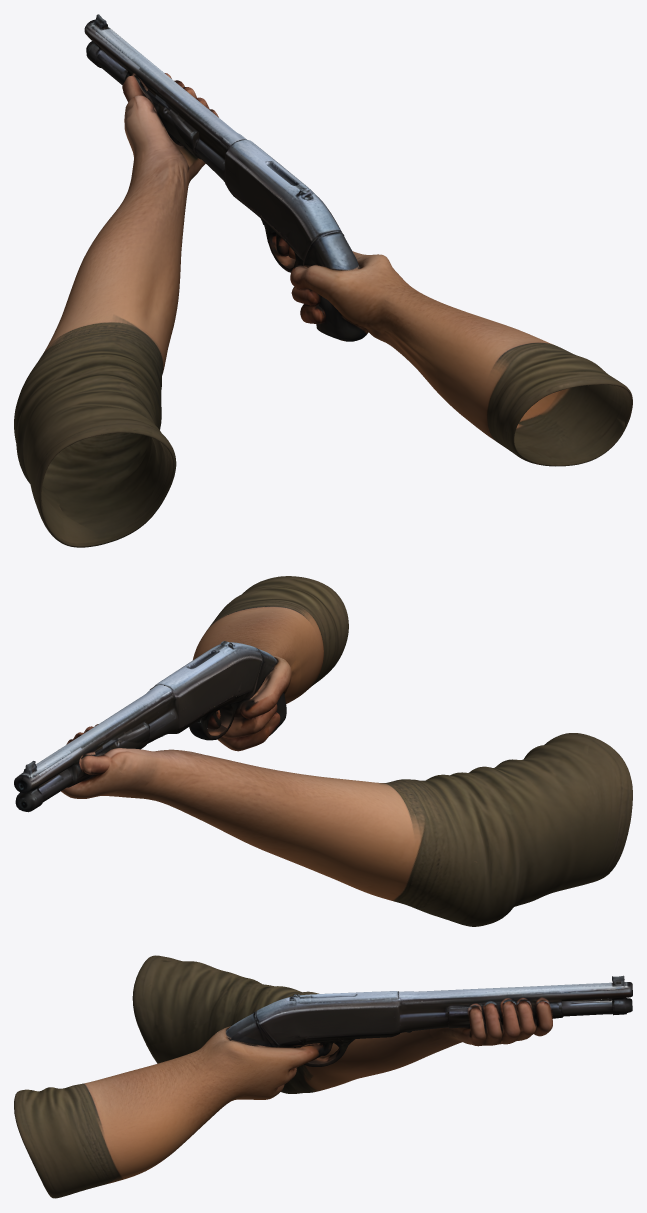
File: shotgun_hand_full.glb
The picture shows the model from 3 angles, top to bottom: view 1: azimuth 30°, elevation 25°; view 2: azimuth 150°, elevation 25°; view 3: azimuth 270°, elevation 25°; orthographic projection. The views are drawn at different scales.
Visible parts, largest first — view 1: node_0; view 2: node_0; view 3: node_0.
Part boxes in pixels (x1,y1,x2,y2): node_0: (14, 14, 632, 547); node_0: (14, 576, 632, 926); node_0: (14, 955, 632, 1198).
Size of the model in its own units: 0.7437 by 0.3636 by 0.9965.
Materials: 1 (1 with a texture image).
